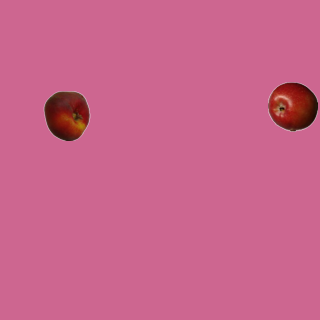Apple Braeburn: (267, 81, 317, 131)
Nectarine Flat: (41, 90, 91, 140)
